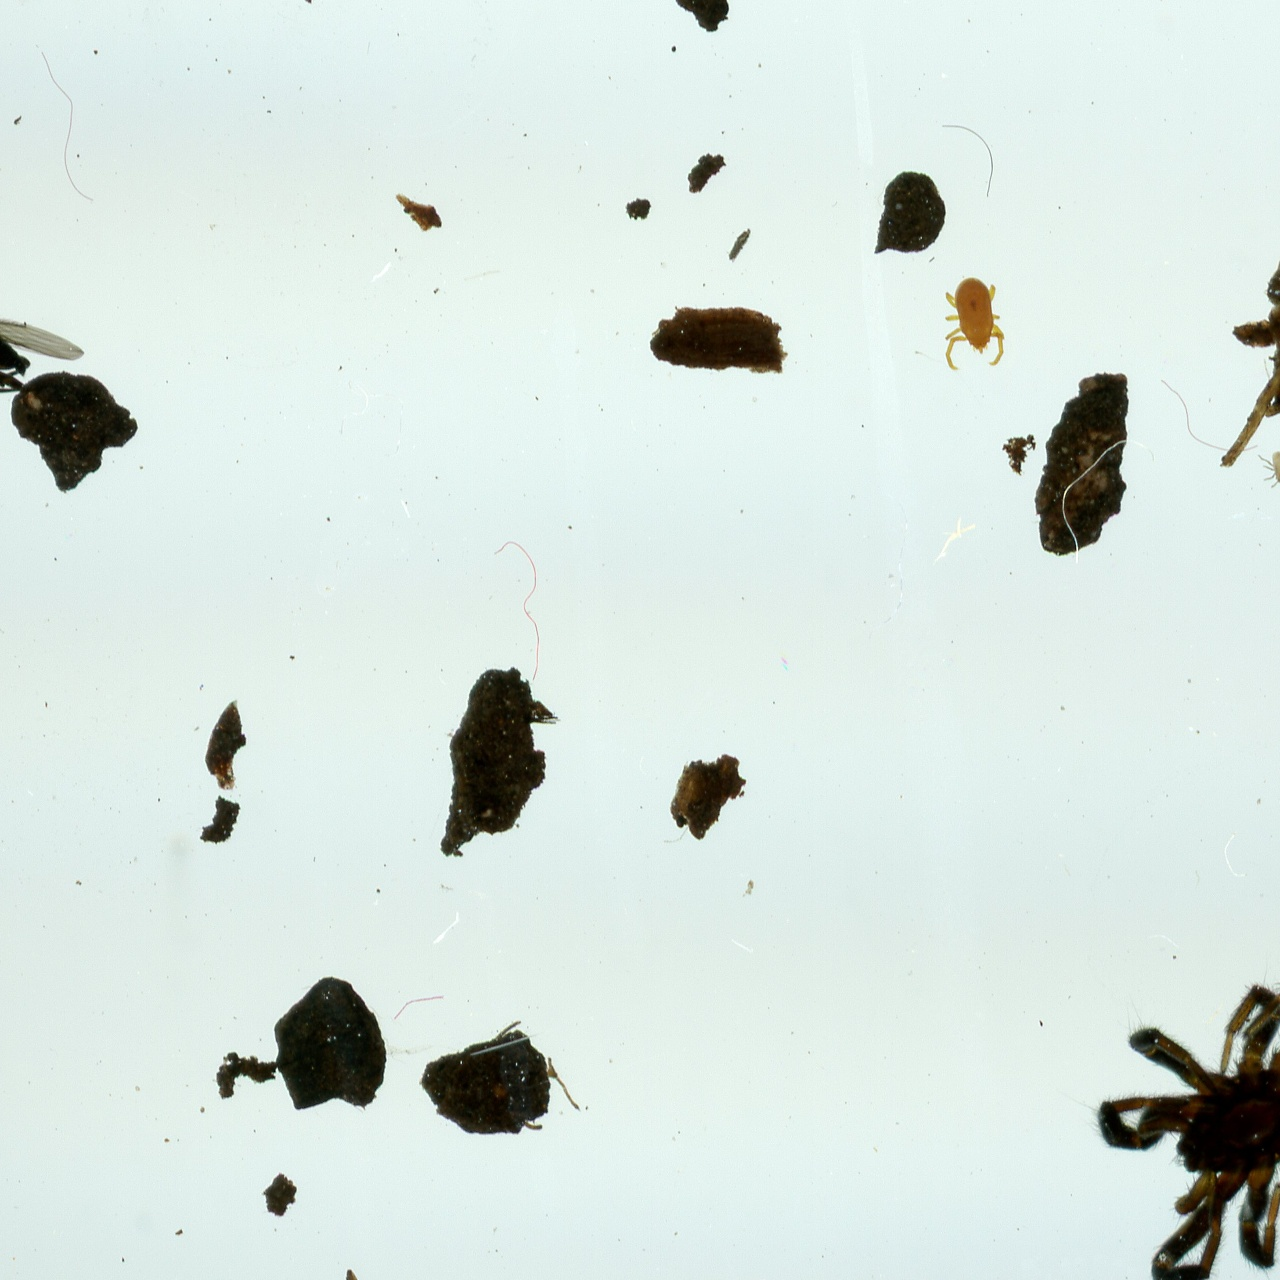arthropod: (982, 844, 1280, 1280), (0, 302, 86, 408), (939, 271, 1008, 375), (1255, 449, 1280, 491)
